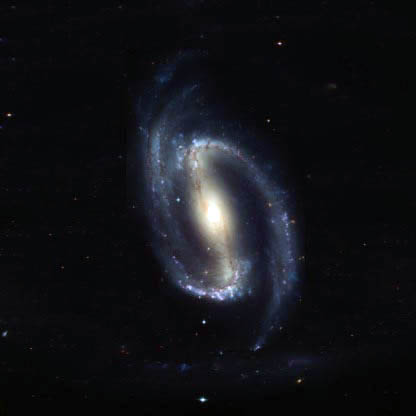NGC 1300: (128, 51, 307, 361)
